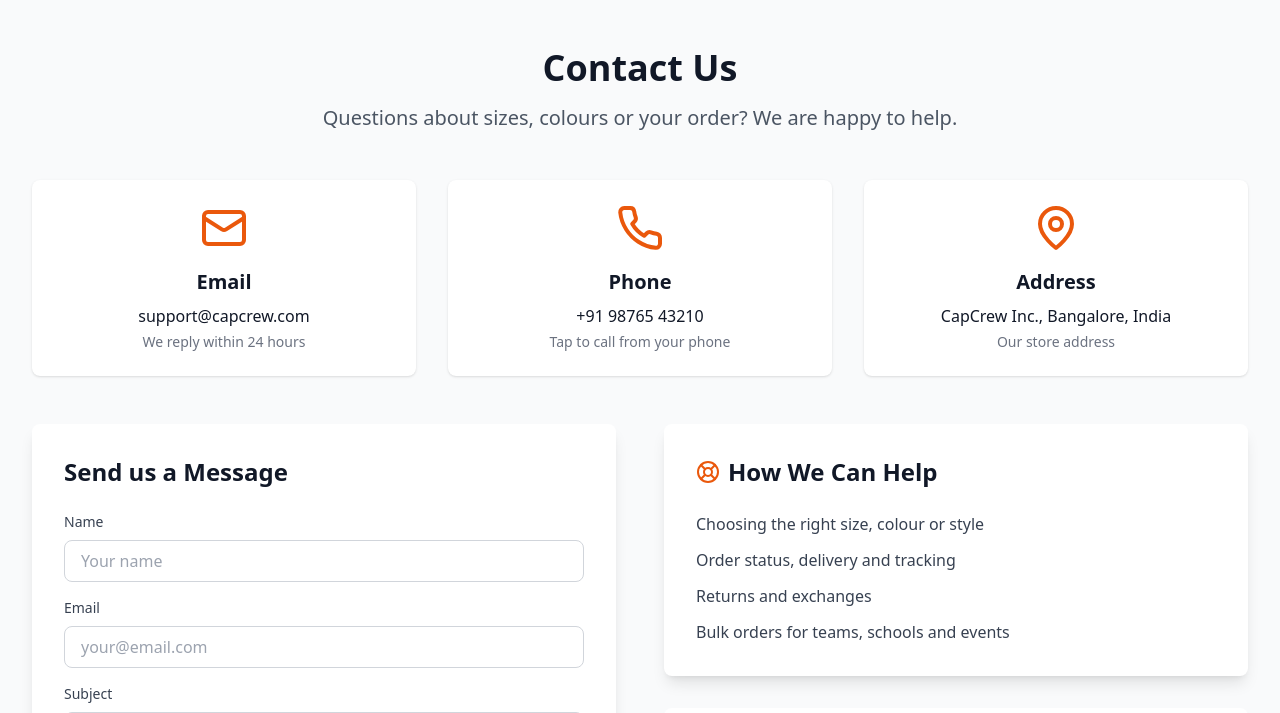
ContactPage › explains the rate limit in plain words
Type "Asha" into the field labelled "Name" at (324, 561), box [64,540,584,582]
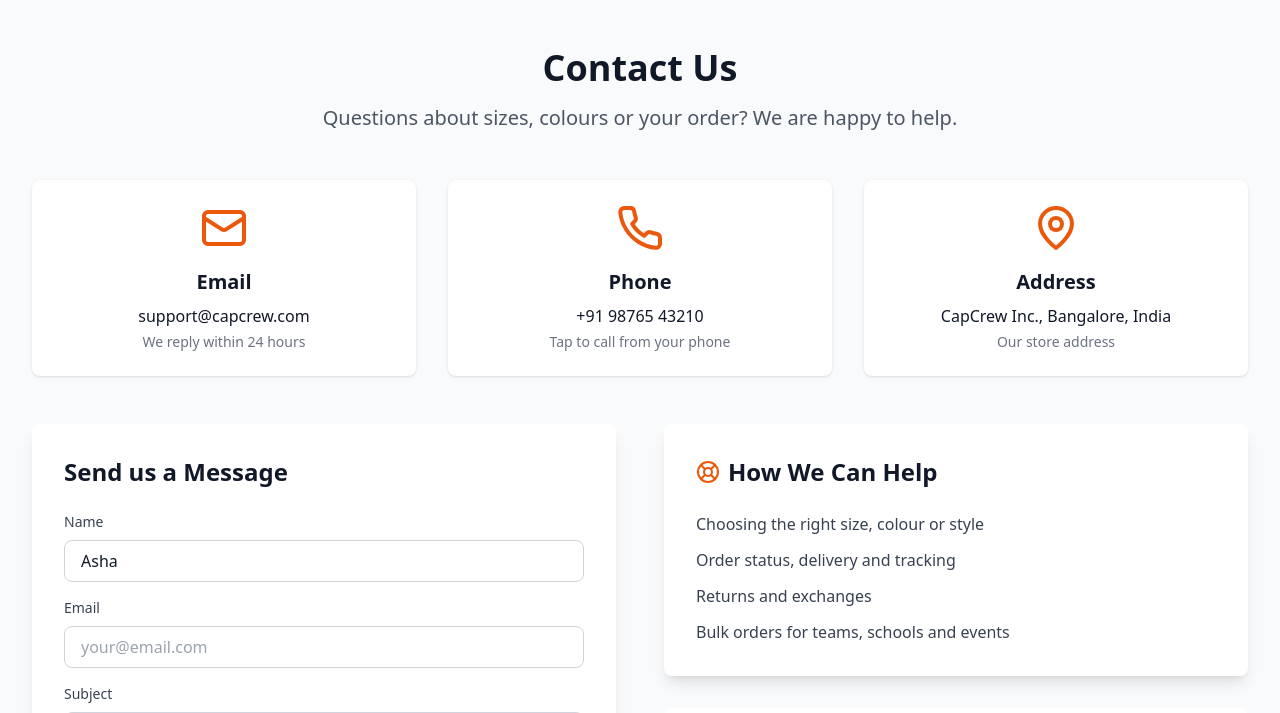
Type "asha@example.com" into the field labelled "Email" at (324, 647), box [64,626,584,668]
(page scrolled)
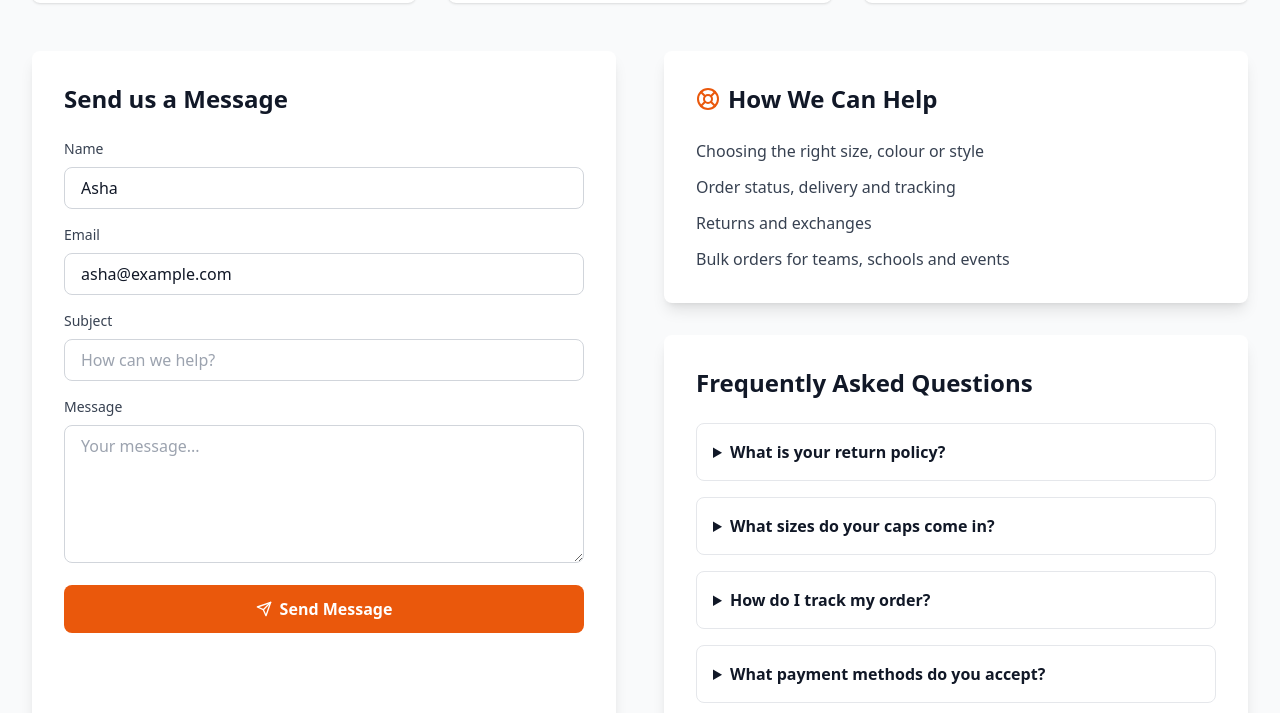
Type "Size help" into the field labelled "Subject" at (324, 360), box [64,339,584,381]
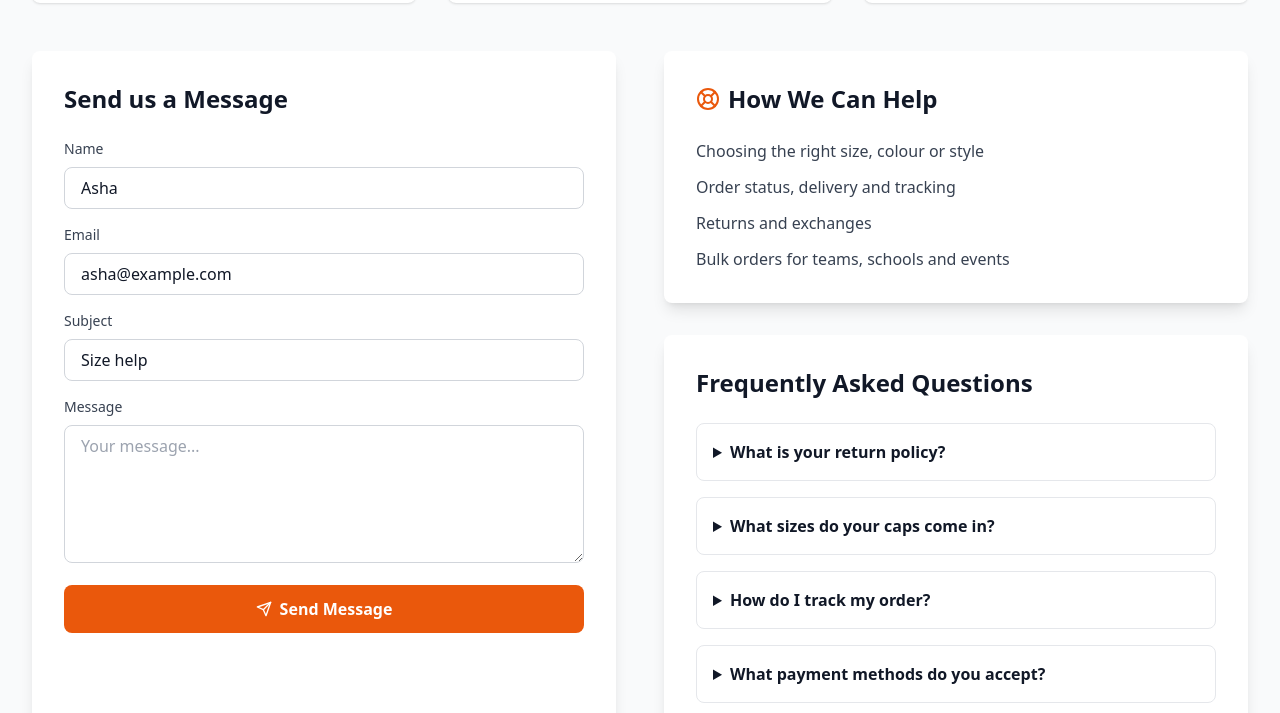
Type "Which size fits a 56 cm head?" into the text box labelled "Message" at (324, 494), box [64,425,584,563]
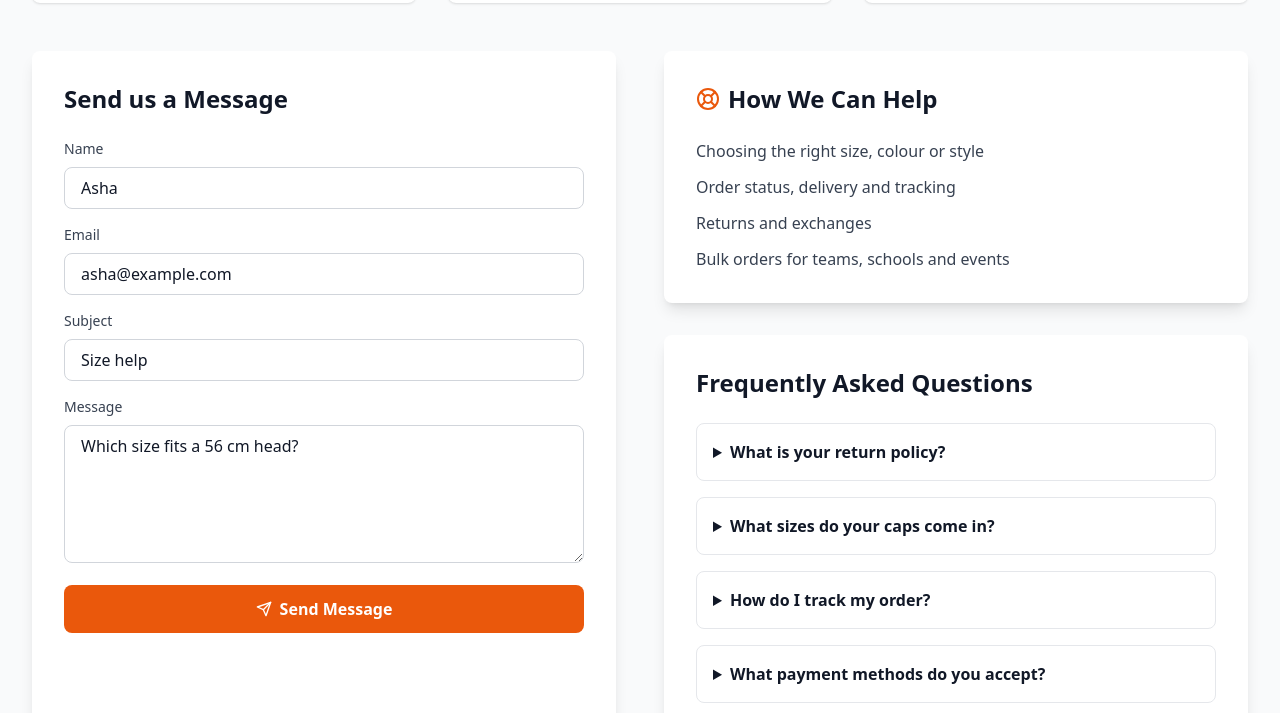
Click the button "Send Message" at (324, 609), box [64,585,584,633]
(page scrolled)
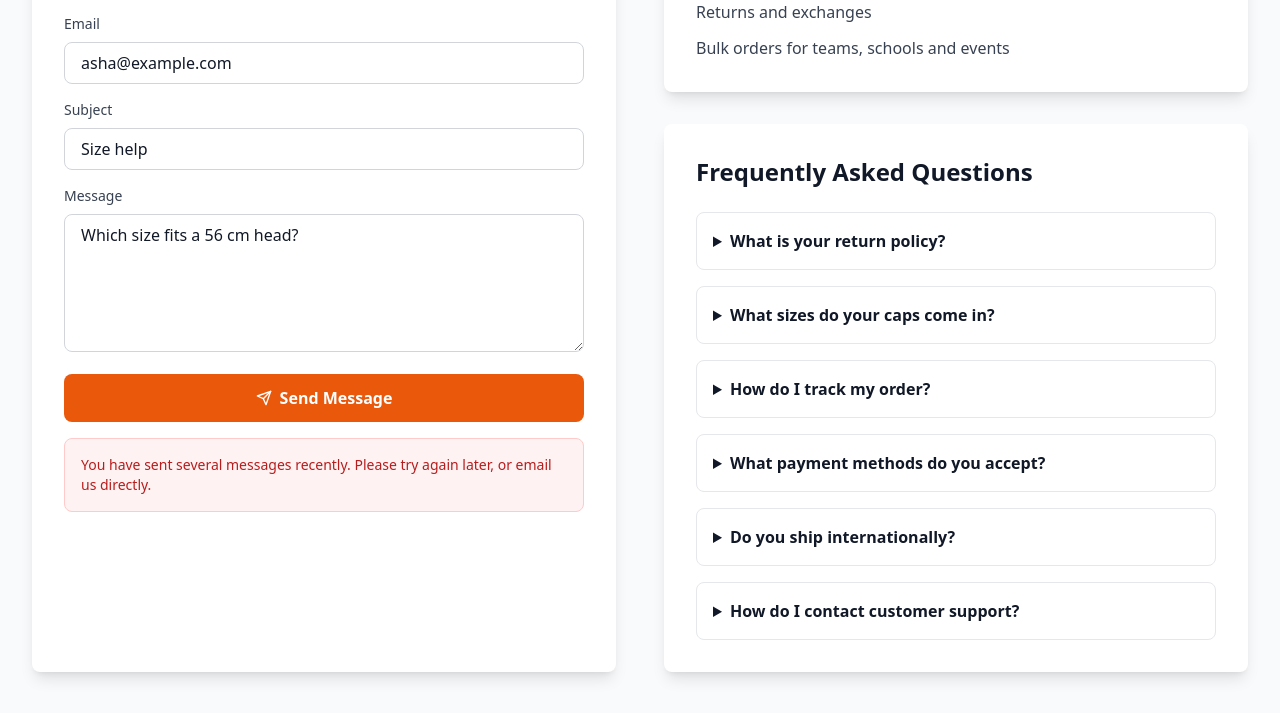
Check: the message shows "several messages", box [81,455,552,494]
